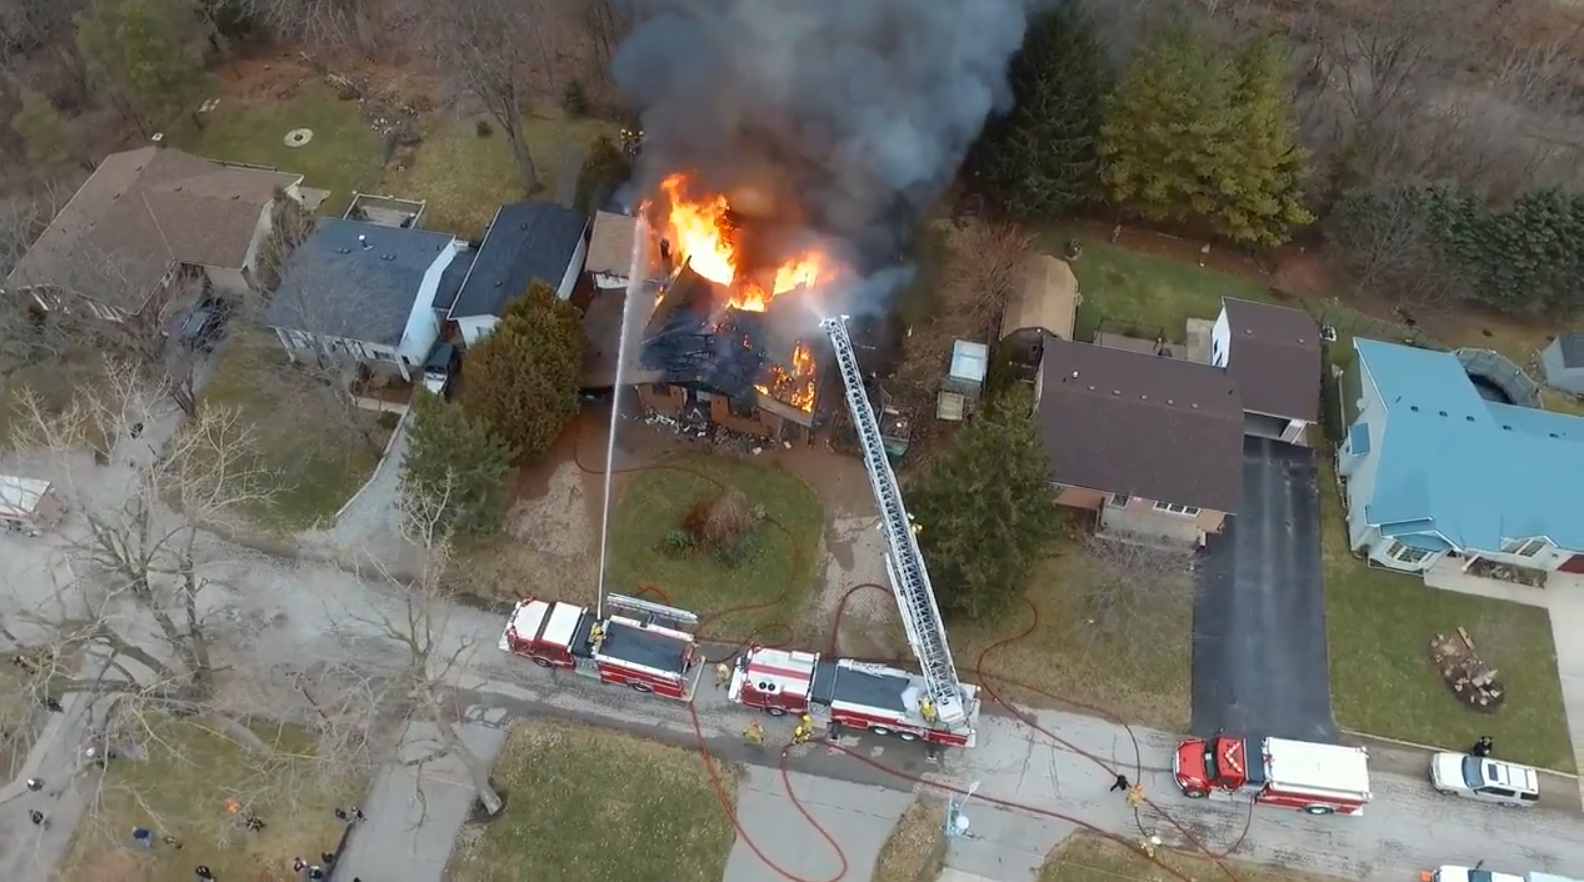fire: (644, 179, 847, 392)
